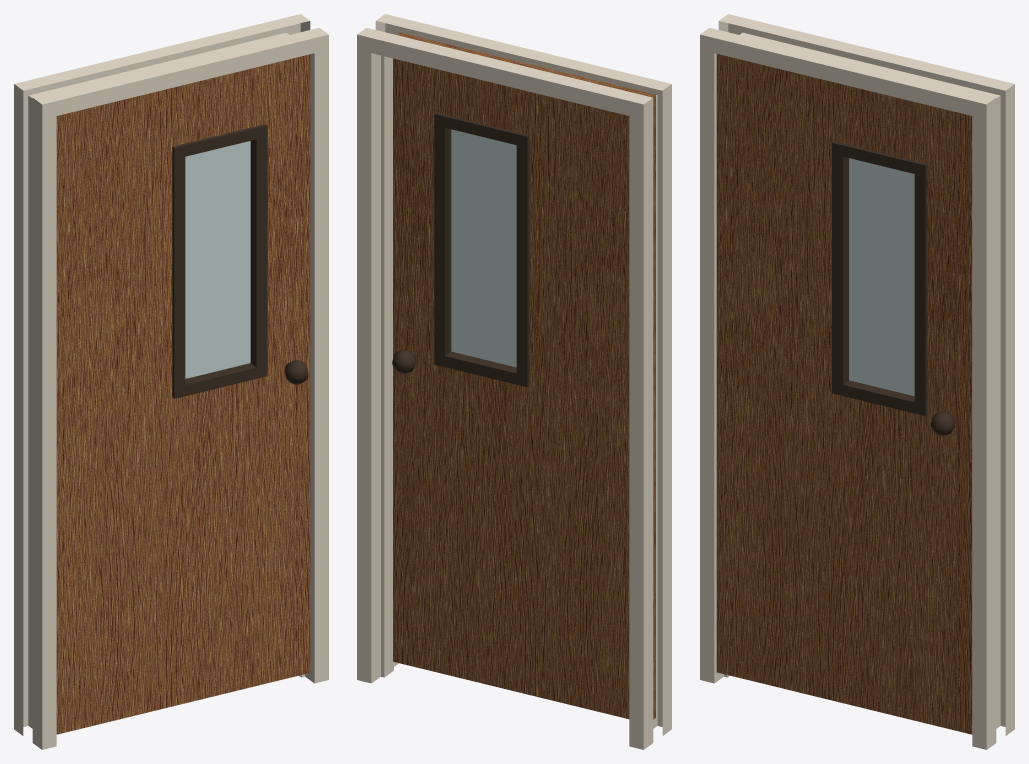
The model's file is wood_window_door.fbx.
The picture shows the model from 3 angles, left to right: view 1: azimuth 30°, elevation 25°; view 2: azimuth 150°, elevation 25°; view 3: azimuth 330°, elevation 25°; orthographic projection.
Parts seen in each view (by area): view 1: door, wood_window_door, window; view 2: door, wood_window_door, window; view 3: door, wood_window_door, window.
Boxes of the visible parts, bbox=[...] form: door: bbox=[56, 54, 310, 734]; wood_window_door: bbox=[14, 14, 328, 749]; window: bbox=[185, 141, 250, 378]; door: bbox=[393, 32, 655, 719]; wood_window_door: bbox=[357, 14, 671, 749]; window: bbox=[451, 129, 516, 367]; door: bbox=[716, 54, 972, 734]; wood_window_door: bbox=[700, 14, 1014, 749]; window: bbox=[849, 158, 914, 396].
Bounding box in the file's own units: 101 × 217 × 24.5.
